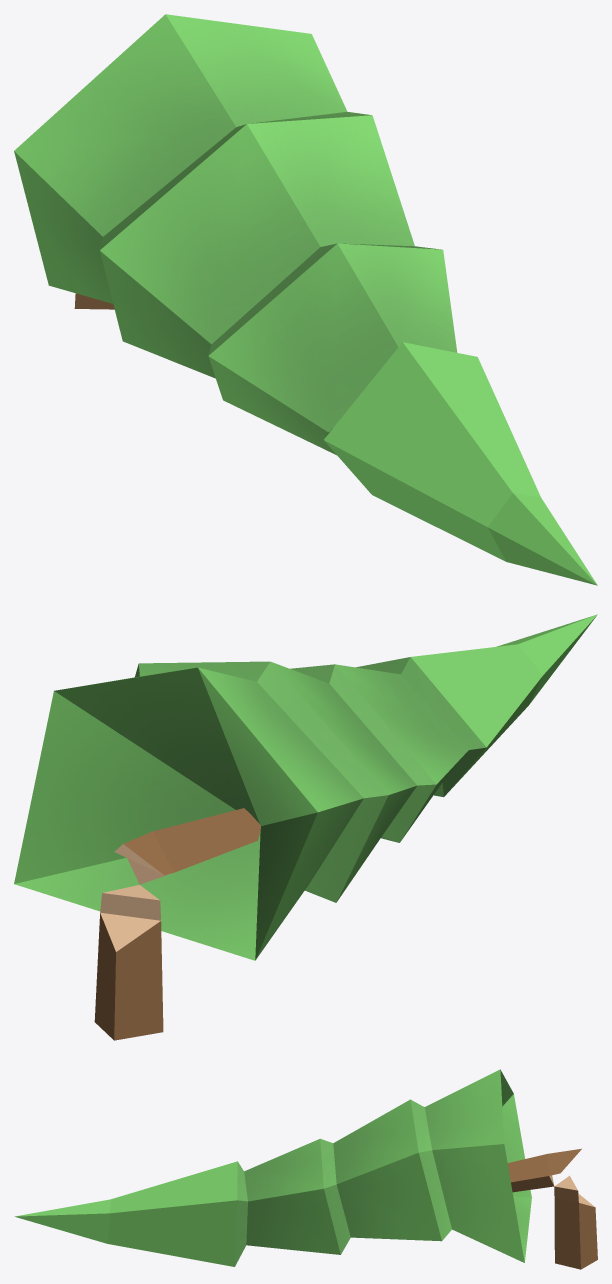
File: Fir_Tree_crk_m_03_LOD.fbx
The picture shows the model from 3 angles, top to bottom: view 1: azimuth 30°, elevation 25°; view 2: azimuth 150°, elevation 25°; view 3: azimuth 270°, elevation 25°; orthographic projection. The views are drawn at different scales.
Parts seen in each view (by area): view 1: Fir_Tree_crk_m_03_LOD0; view 2: Fir_Tree_crk_m_03_LOD0; view 3: Fir_Tree_crk_m_03_LOD0.
Part boxes in pixels (x1,y1,x2,y2): Fir_Tree_crk_m_03_LOD0: (14, 14, 597, 585); Fir_Tree_crk_m_03_LOD0: (14, 614, 597, 1040); Fir_Tree_crk_m_03_LOD0: (14, 1069, 597, 1269).
Size of what is drawn, in the model's own units: 114 by 117 by 325.
